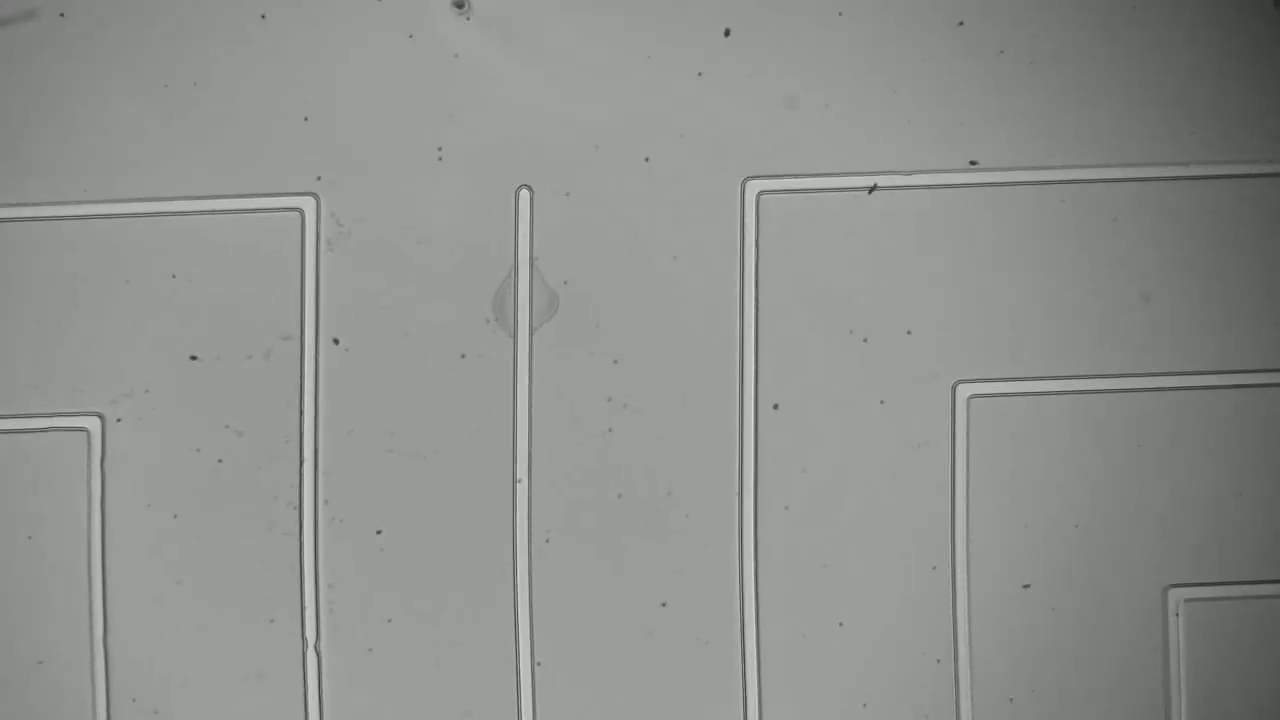edge_bite: (294, 628, 330, 661)
stains_enbedded: (851, 165, 888, 195)
